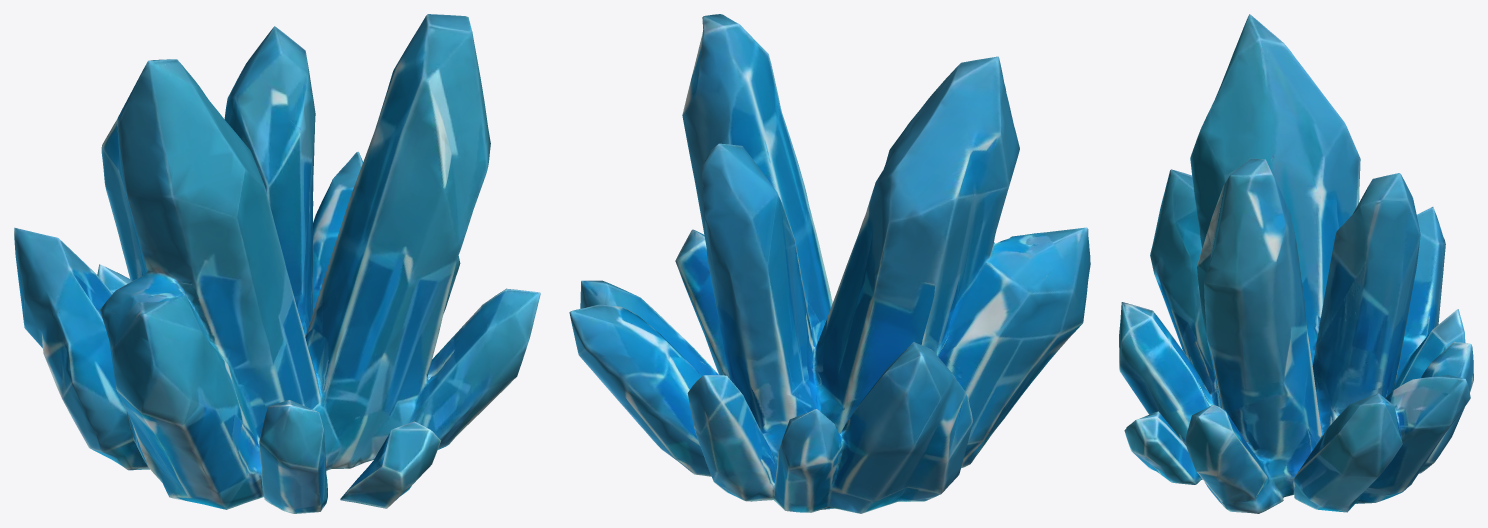
The model's file is minerals.glb.
The picture shows the model from 3 angles, left to right: view 1: azimuth 30°, elevation 25°; view 2: azimuth 150°, elevation 25°; view 3: azimuth 270°, elevation 25°; orthographic projection. The views are drawn at different scales.
Visible parts, largest first — view 1: Mesh1.0; view 2: Mesh1.0; view 3: Mesh1.0.
Part boxes in pixels (x1,y1,x2,y2): Mesh1.0: [14, 14, 540, 513]; Mesh1.0: [569, 14, 1090, 513]; Mesh1.0: [1119, 14, 1473, 513].
Size of the model in its own units: 1.91 by 1.88 by 1.59.
Materials: 1 (1 with a texture image).
